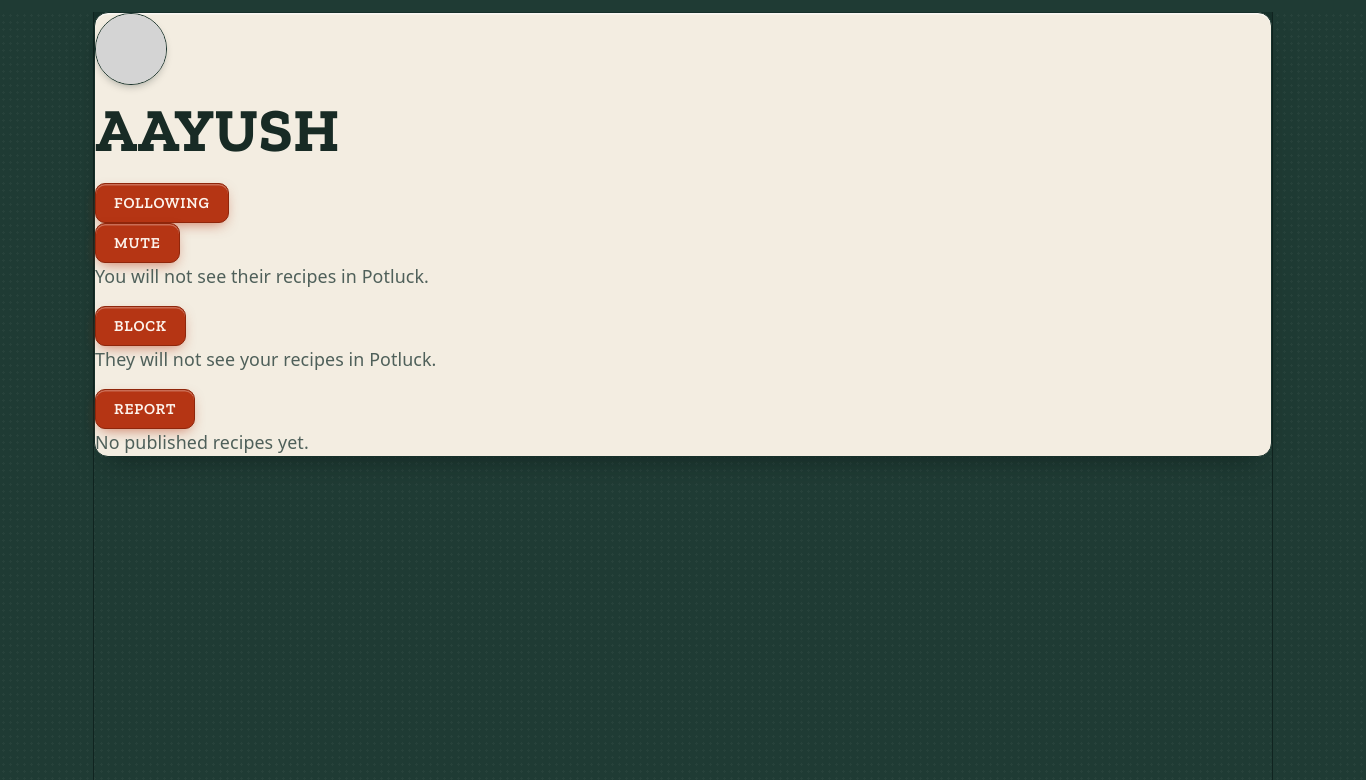
Test case: blocking stops the control claiming you still follow them
Expected: the button "Following" is shown, top-left (95, 183), bottom-right (229, 223)
Step 1. Click the button "Block" → (140, 326), box top-left (95, 306), bottom-right (186, 346)
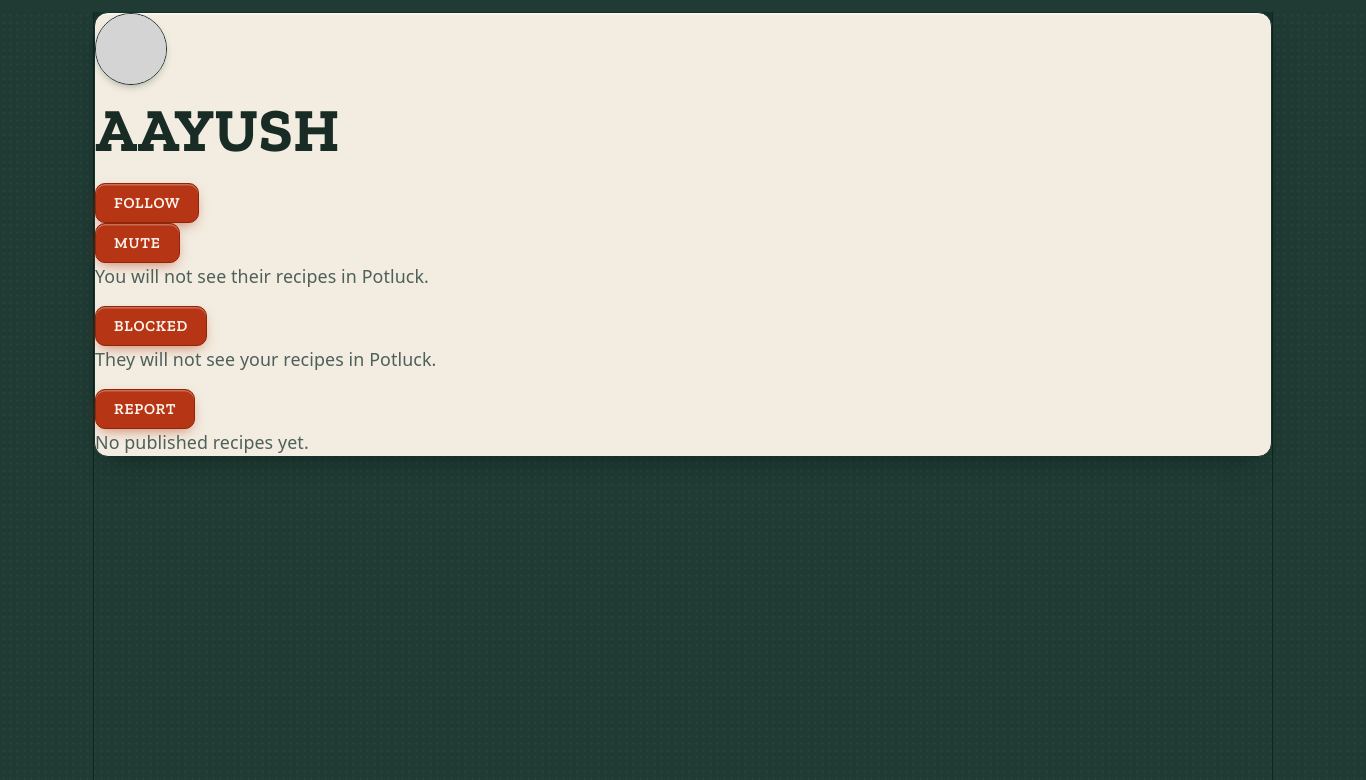
Expected: the button "Follow" is shown, top-left (95, 183), bottom-right (199, 223)
Expected: the button "Following" is gone
